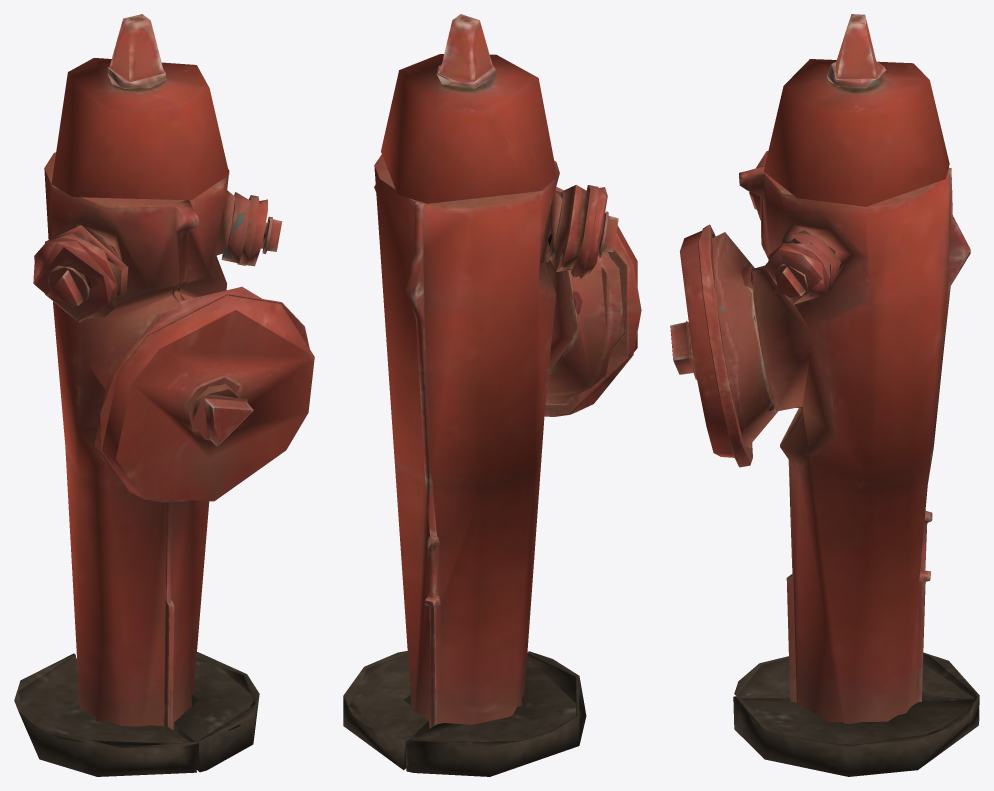
The model's file is fire_hydrant.glb.
The picture shows the model from 3 angles, left to right: view 1: azimuth 30°, elevation 25°; view 2: azimuth 150°, elevation 25°; view 3: azimuth 270°, elevation 25°; orthographic projection.
Parts seen in each view (by area): view 1: fire_hydrant; view 2: fire_hydrant; view 3: fire_hydrant.
Part boxes in pixels (<box>): fire_hydrant: <box>14,14,314,776</box>; fire_hydrant: <box>343,14,641,776</box>; fire_hydrant: <box>670,14,979,776</box>.
Bounding box in the file's own units: 0.2729 × 0.7995 × 0.3175.
Materials: 1 (1 with a texture image).
